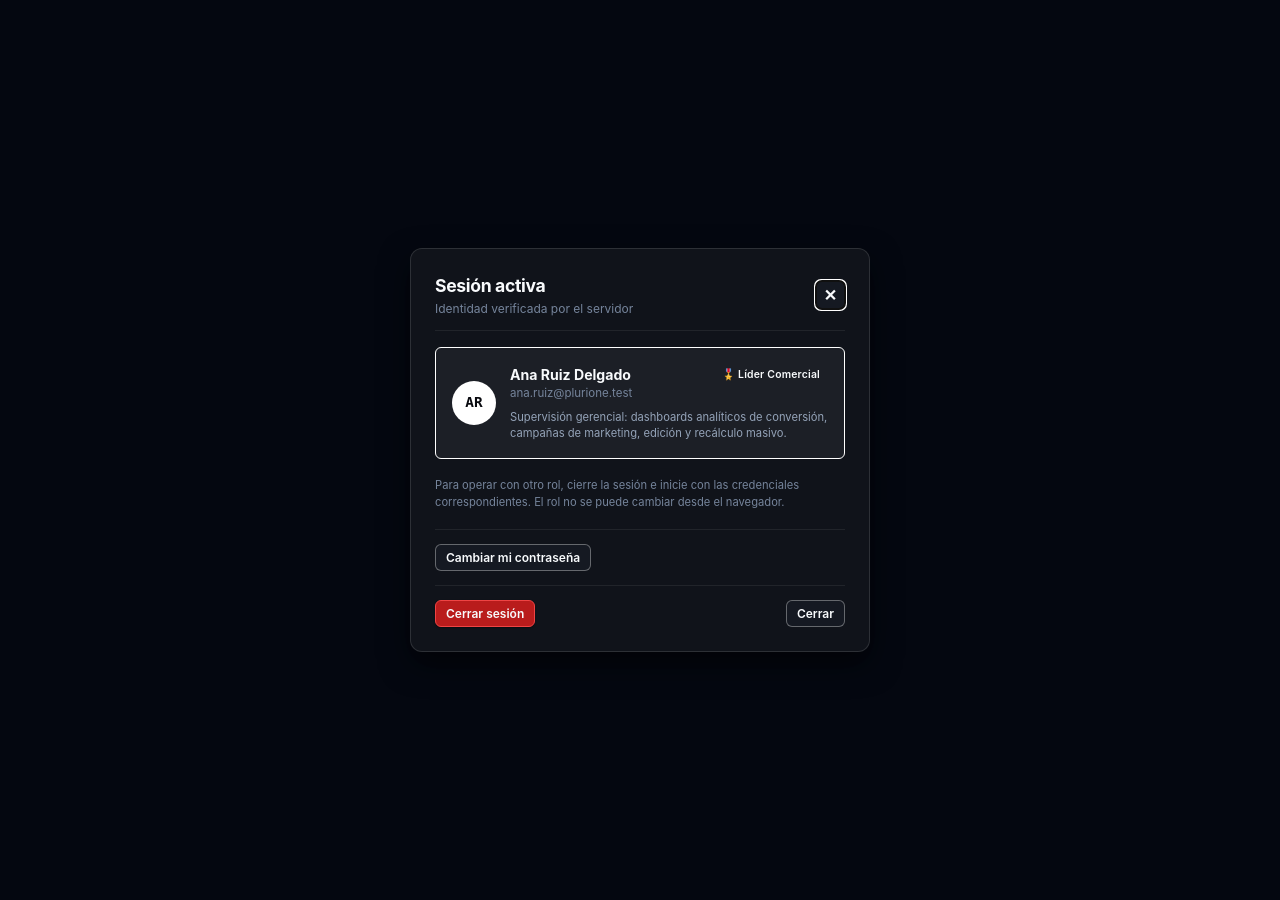
Test: cambio de la contraseña propia › si la repetición no coincide, no se manda nada al servidor
Step 1. Click the button "Cambiar mi contraseña" → (513, 557), box [435, 544, 591, 571]
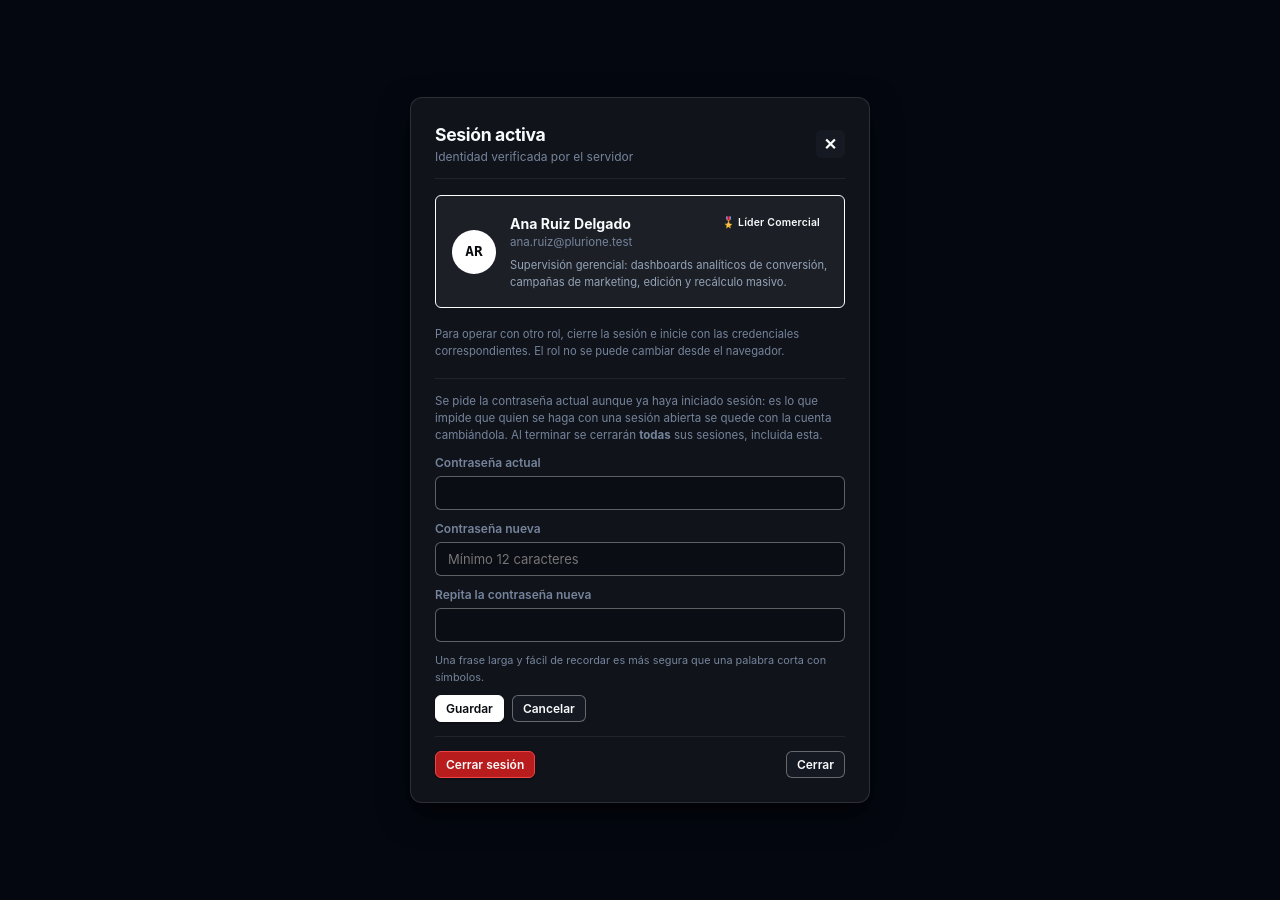
Step 2. Type "la-de-siempre" into the password field labelled "Contraseña actual" → (640, 493), box [435, 476, 845, 510]
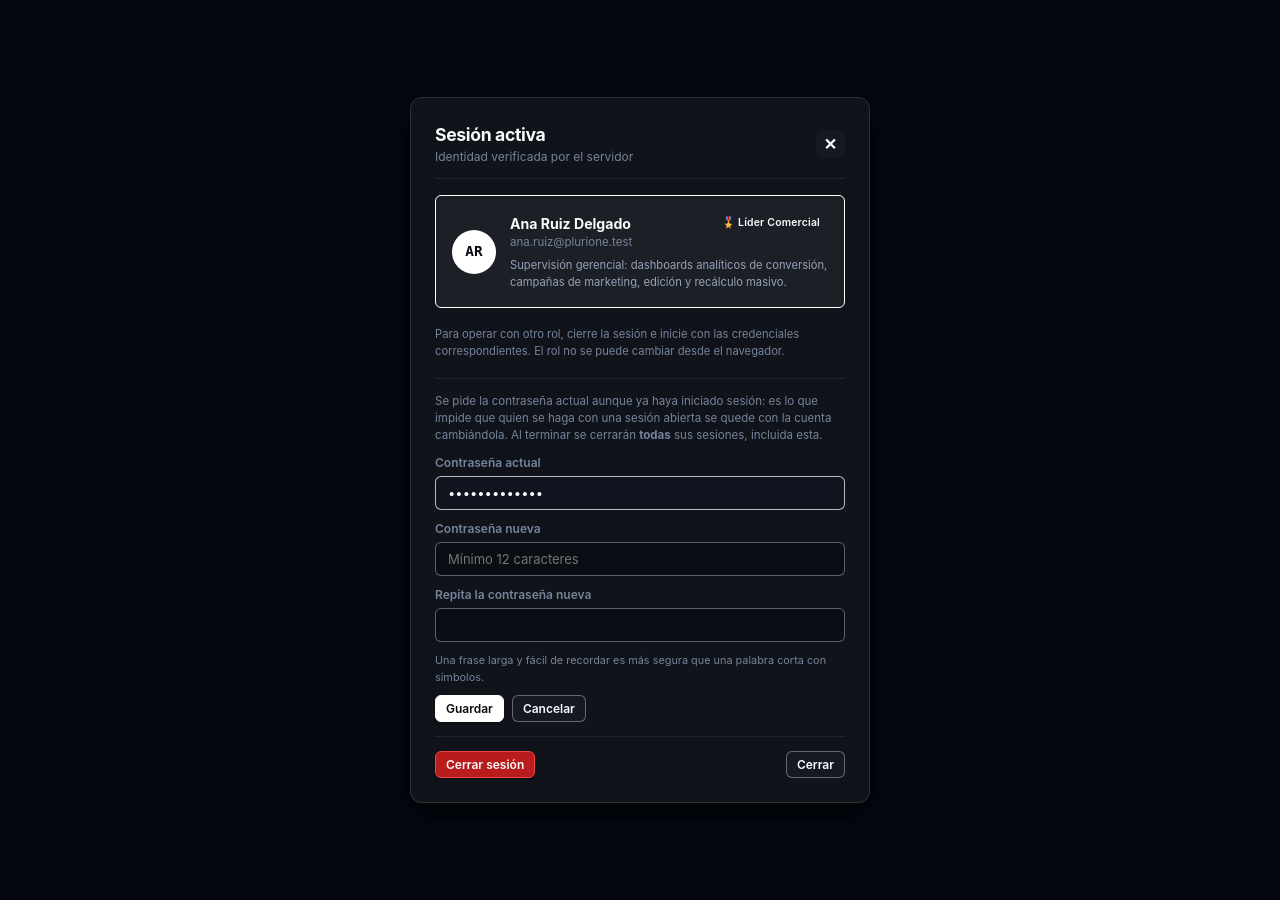
Step 3. Type "una-frase-larga-y-nueva" into the password field labelled "Contraseña nueva" → (640, 559), box [435, 542, 845, 576]
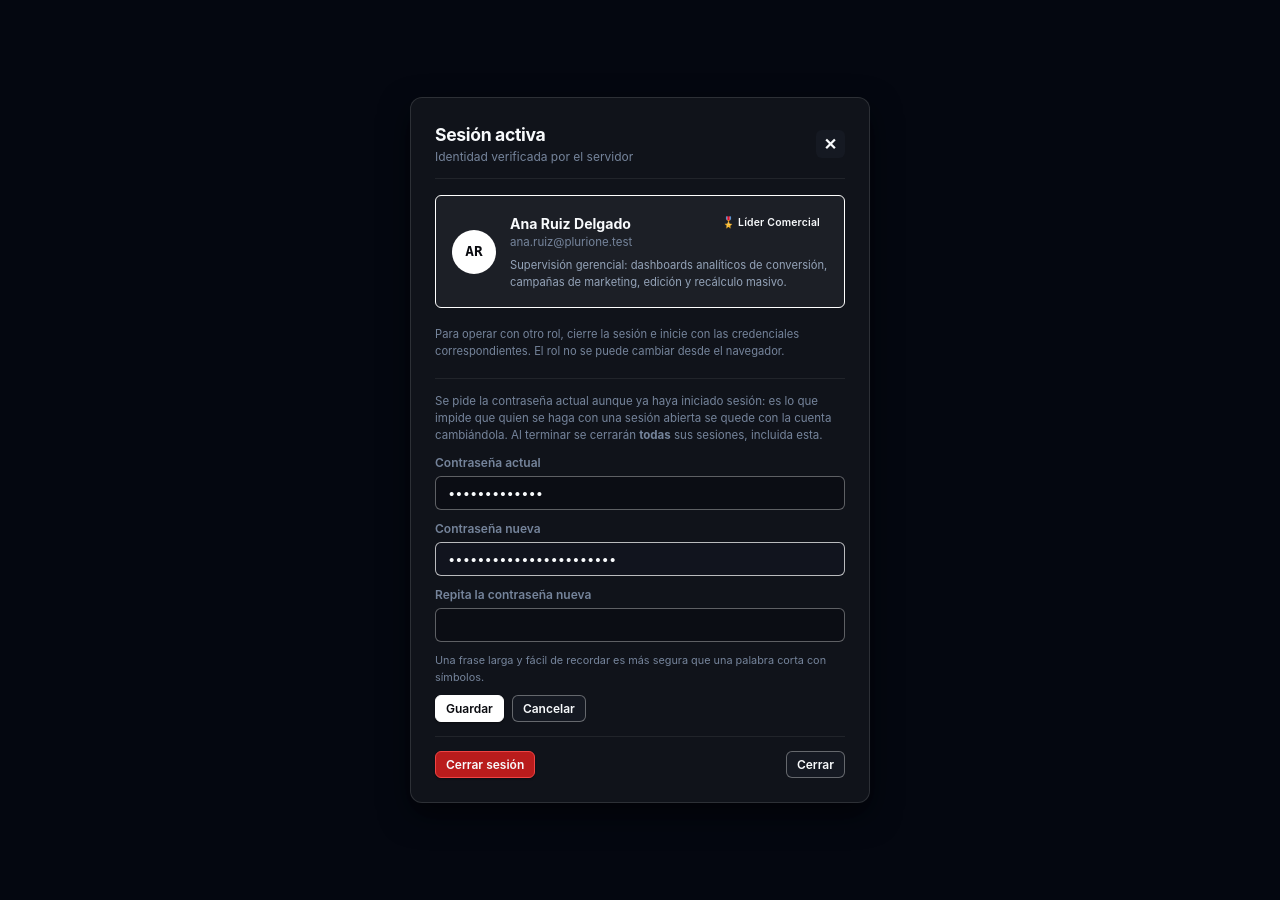
Step 4. Type "una-frase-larga-distinta" into the password field labelled "Repita la contraseña nueva" → (640, 625), box [435, 608, 845, 642]
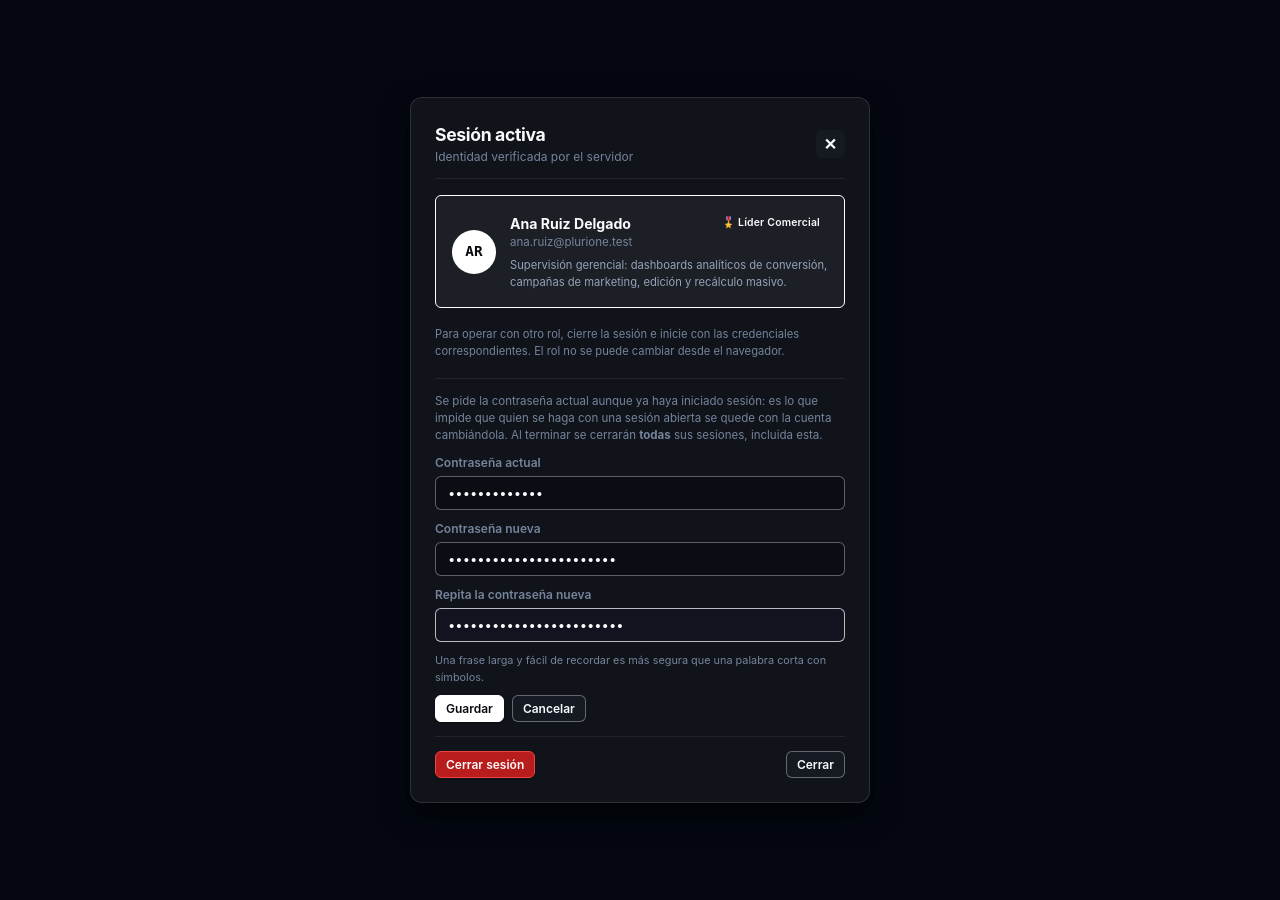
Step 5. Click the button "Guardar" → (469, 708), box [435, 695, 504, 722]
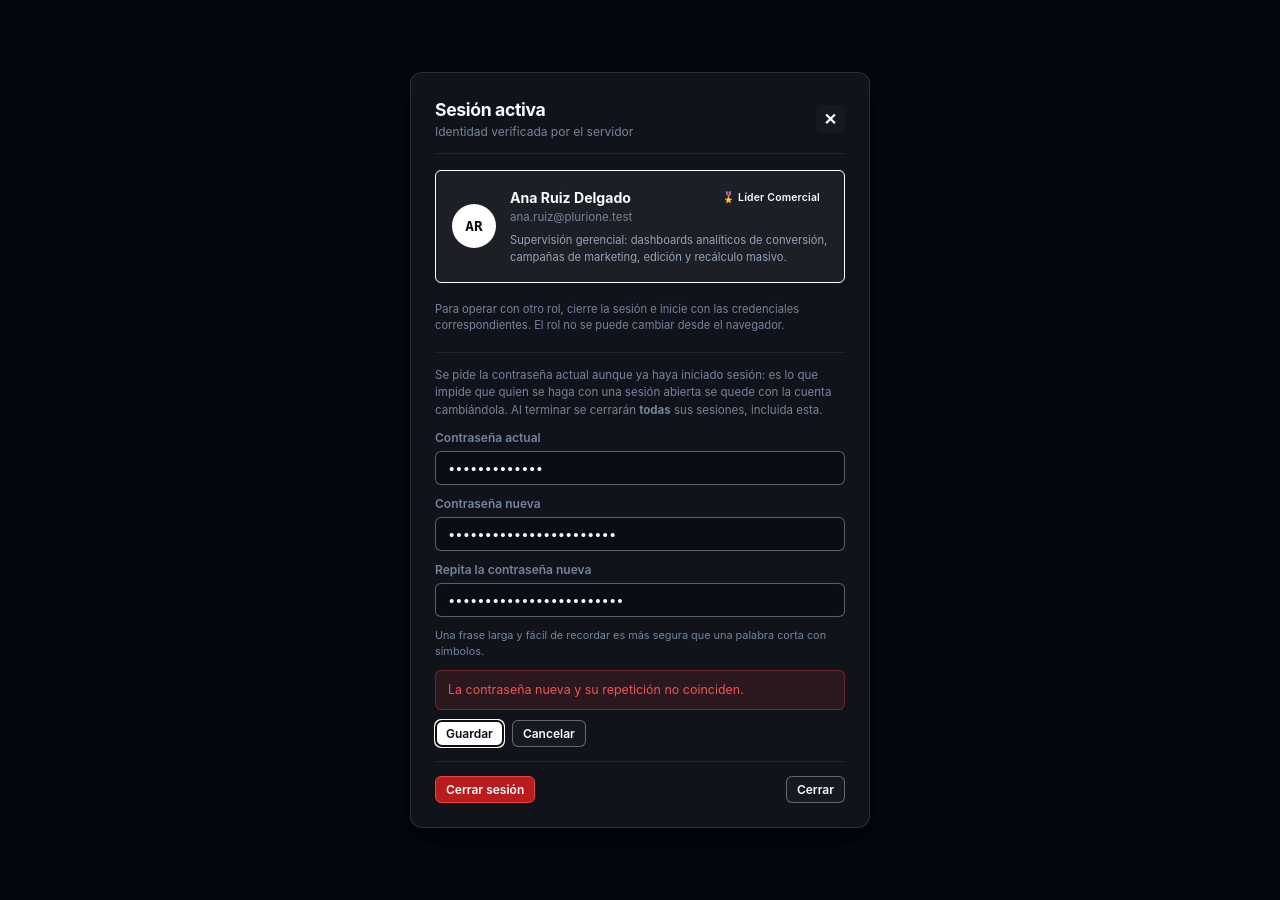
Check: the text "La contraseña nueva y su repetición no coinciden." is shown, box [435, 670, 845, 710]
